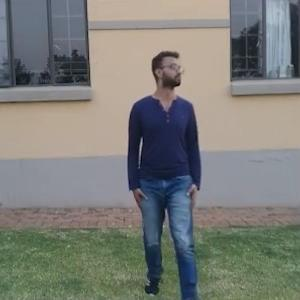follow: (120, 32, 211, 284)
